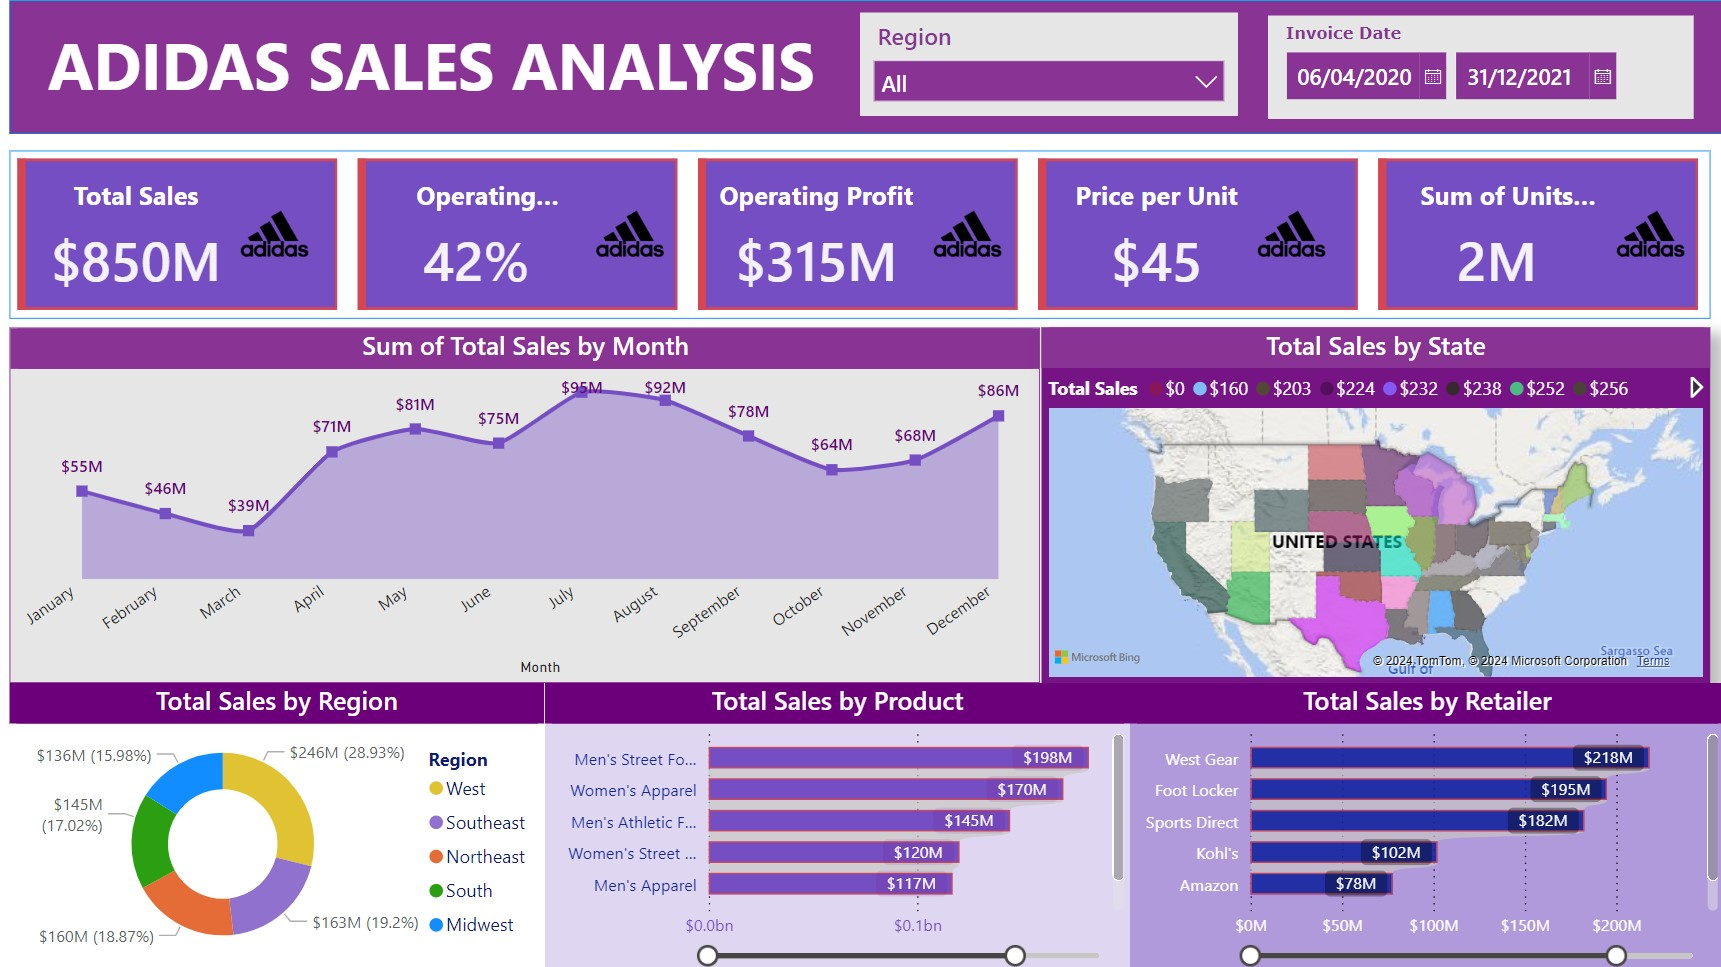

Layout of this report page (visuals, bound fields, positions):
{"tool":"powerbi","page":{"name":"Page 1","canvas":[1280,720],"ordinal":0},"visuals":[{"type":"shape","box":[10,1.1,1270,98.9],"z":0},{"type":"textbox","box":[33.3,10,590,76.7],"z":1000},{"type":"cardVisual","fields":{"Data":["Sum(Data Sales Adidas.Total Sales)","Avg(Data Sales Adidas.Operating Margin)","Sum(Data Sales Adidas.Operating Profit)","Avg(Data Sales Adidas.Price per Unit)","Sum(Data Sales Adidas.Units Sold)"]},"box":[9.7,111.7,1259.8,124.7],"z":2000},{"type":"areaChart","fields":{"Category":["Data Sales Adidas.Invoice Date.Variation.Date Hierarchy.Month"],"Y":["Sum(Data Sales Adidas.Total Sales)"]},"box":[10,243.3,763.3,263.3],"z":3000},{"type":"filledMap","title":"Total Sales by State","fields":{"Category":["Data Sales Adidas.State"],"Series":["Data Sales Adidas.Total Sales"]},"box":[774,242.9,495.5,263.9],"z":4000},{"type":"donutChart","title":"Total Sales by Region","fields":{"Category":["Data Sales Adidas.Region"],"Y":["Sum(Data Sales Adidas.Total Sales)"]},"box":[10.1,506.9,396.3,213.2],"z":6000},{"type":"barChart","title":"Total Sales by Product","fields":{"Category":["Data Sales Adidas.Product"],"Y":["Sum(Data Sales Adidas.Total Sales)"]},"box":[406.3,506.9,433.5,213.2],"z":7000},{"type":"barChart","title":"Total Sales by Retailer","fields":{"Category":["Data Sales Adidas.Retailer"],"Y":["Sum(Data Sales Adidas.Total Sales)"]},"box":[839.8,506.9,440.5,213.2],"z":8000},{"type":"slicer","fields":{"Values":["Data Sales Adidas.Region"]},"box":[640,10,280,76.7],"z":9000},{"type":"slicer","fields":{"Values":["Data Sales Adidas.Invoice Date"]},"box":[941.7,11.7,315,76.7],"z":10000}]}

Visuals, with their boxes in screenshot pixels (x1, y1, x2, y2), scaled from the page's 1280x720 canvas onto the 1721x967 screenshot:
shape: select_region(13, 1, 1720, 134)
textbox: select_region(45, 13, 838, 116)
cardVisual - Sum(Data Sales Adidas.Total Sales) x Avg(Data Sales Adidas.Operating Margin): select_region(13, 150, 1707, 317)
areaChart - Data Sales Adidas.Invoice Date.Variation.Date Hierarchy.Month x Sum(Data Sales Adidas.Total Sales): select_region(13, 327, 1040, 680)
"Total Sales by State" filledMap: select_region(1041, 326, 1707, 681)
"Total Sales by Region" donutChart: select_region(14, 681, 546, 966)
"Total Sales by Product" barChart: select_region(546, 681, 1129, 966)
"Total Sales by Retailer" barChart: select_region(1129, 681, 1720, 966)
slicer - Data Sales Adidas.Region: select_region(860, 13, 1237, 116)
slicer - Data Sales Adidas.Invoice Date: select_region(1266, 16, 1690, 119)
